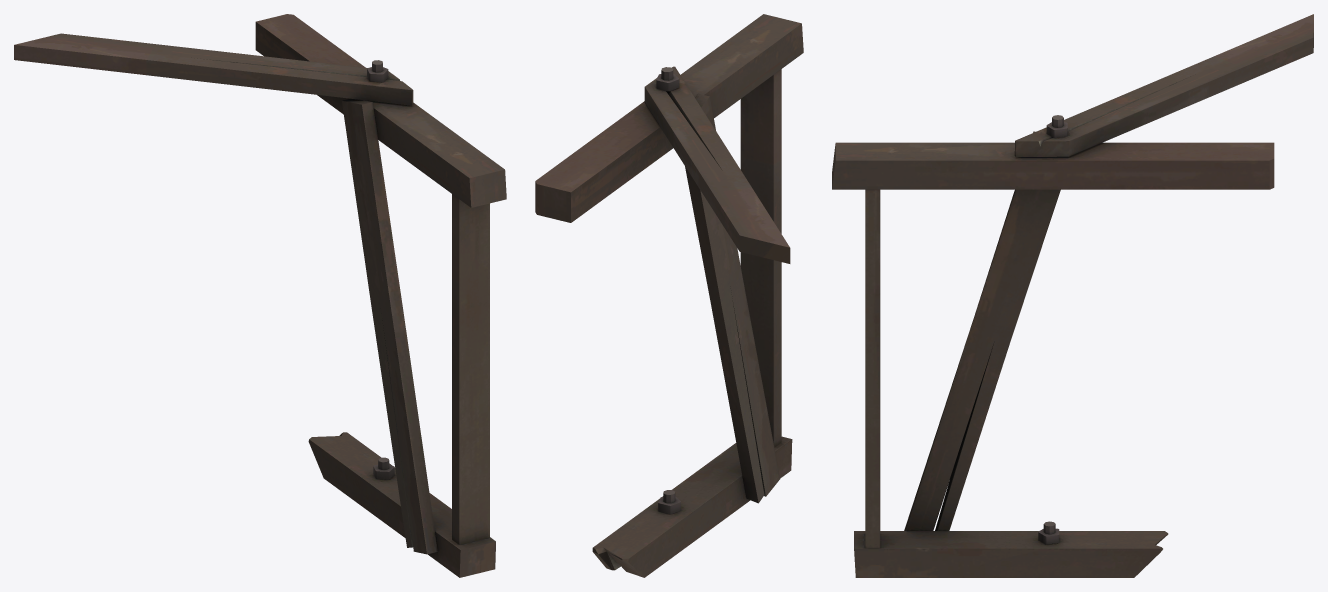
The model's file is props_coalmines_wood_debris3.glb.
3 views of the same model, side by side, from view 1: azimuth 30°, elevation 25°; view 2: azimuth 150°, elevation 25°; view 3: azimuth 270°, elevation 25° (orthographic). The views are drawn at different scales.
Parts seen in each view (by area): view 1: models/props_coalmines/wood_debris3; view 2: models/props_coalmines/wood_debris3; view 3: models/props_coalmines/wood_debris3.
Boxes of the visible parts, box(x1,y1,x2,y2) form: models/props_coalmines/wood_debris3: box(14, 14, 506, 577); models/props_coalmines/wood_debris3: box(535, 14, 803, 577); models/props_coalmines/wood_debris3: box(832, 14, 1313, 577).
Bounding box in the file's own units: 87 × 142 × 137.
1 material, 1 textured.
